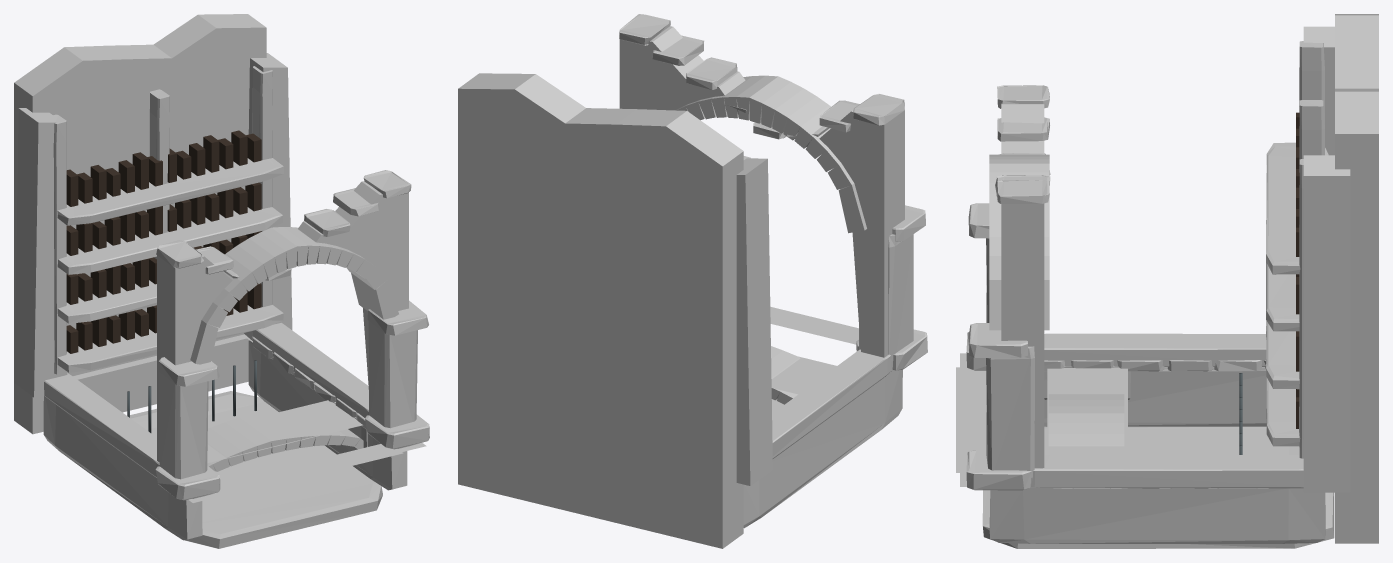
Rendered from archive_bay_broken.glb.
3 renders of one model, left to right at view 1: azimuth 30°, elevation 25°; view 2: azimuth 150°, elevation 25°; view 3: azimuth 270°, elevation 25°, orthographic. The views are drawn at different scales.
Visible parts, largest first — view 1: archive_bay_broken__masonry, archive_bay_broken__dressed_stone, archive_bay_broken__oak, archive_bay_broken__paving, archive_bay_broken__iron; view 2: archive_bay_broken__masonry, archive_bay_broken__dressed_stone, archive_bay_broken__paving; view 3: archive_bay_broken__masonry, archive_bay_broken__dressed_stone, archive_bay_broken__paving, archive_bay_broken__oak.
Part boxes in pixels (x1=…): archive_bay_broken__masonry: x1=14, y1=14, x2=417, y2=548; archive_bay_broken__dressed_stone: x1=49, y1=66, x2=429, y2=500; archive_bay_broken__oak: x1=66, y1=130, x2=261, y2=353; archive_bay_broken__paving: x1=73, y1=334, x2=426, y2=502; archive_bay_broken__iron: x1=127, y1=360, x2=256, y2=432; archive_bay_broken__masonry: x1=458, y1=26, x2=913, y2=548; archive_bay_broken__dressed_stone: x1=619, y1=14, x2=927, y2=404; archive_bay_broken__paving: x1=770, y1=306, x2=858, y2=394; archive_bay_broken__masonry: x1=982, y1=14, x2=1378, y2=548; archive_bay_broken__dressed_stone: x1=966, y1=41, x2=1328, y2=490; archive_bay_broken__paving: x1=956, y1=353, x2=1265, y2=486; archive_bay_broken__oak: x1=1296, y1=112, x2=1299, y2=428.
Bounding box in the file's own units: 4.64 × 6.45 × 5.61.
